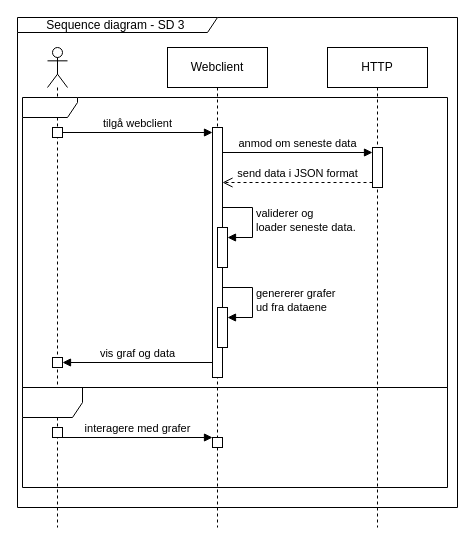
The diagram is 475 pixels wide and 545 high, and some of its shapes have lost their labels. Here are the shapes that lost their labels. From the top down, the centre of each, then its label:
pixel 235 242: loop
pixel 235 437: opt
